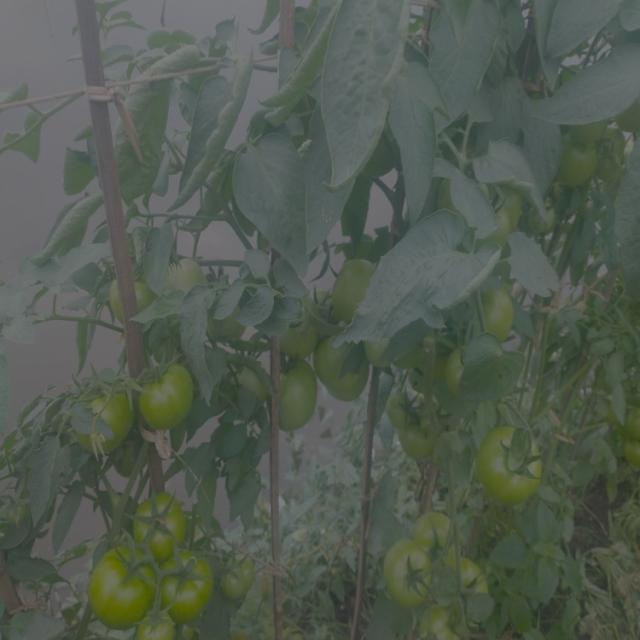tomato: (476, 422, 546, 505), (86, 549, 152, 625), (69, 381, 133, 456), (138, 363, 200, 436), (157, 552, 212, 620), (377, 542, 431, 609), (132, 492, 186, 555), (330, 254, 381, 320), (320, 339, 372, 401), (162, 250, 215, 309), (441, 551, 494, 606), (275, 362, 319, 428), (476, 284, 524, 343), (105, 273, 161, 321), (557, 128, 600, 186), (405, 504, 457, 550), (369, 325, 408, 380), (481, 193, 522, 245), (441, 347, 477, 392), (387, 384, 425, 426), (405, 426, 441, 470), (222, 562, 254, 605), (283, 315, 318, 354), (425, 610, 469, 640)
